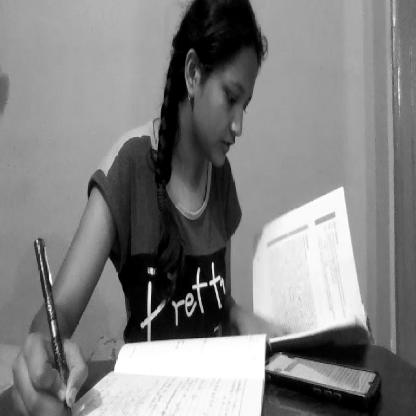Distracted: (164, 0, 270, 180)
